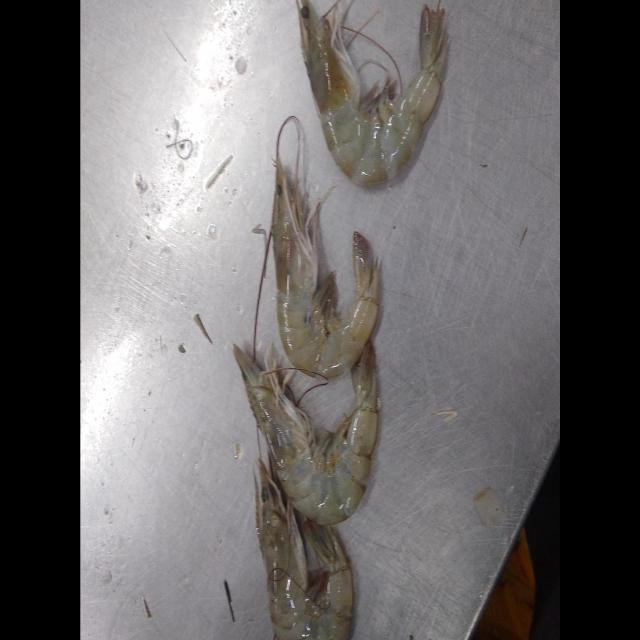shrimp: (296, 0, 448, 184), (233, 345, 377, 525), (271, 157, 379, 380), (255, 461, 353, 640)
